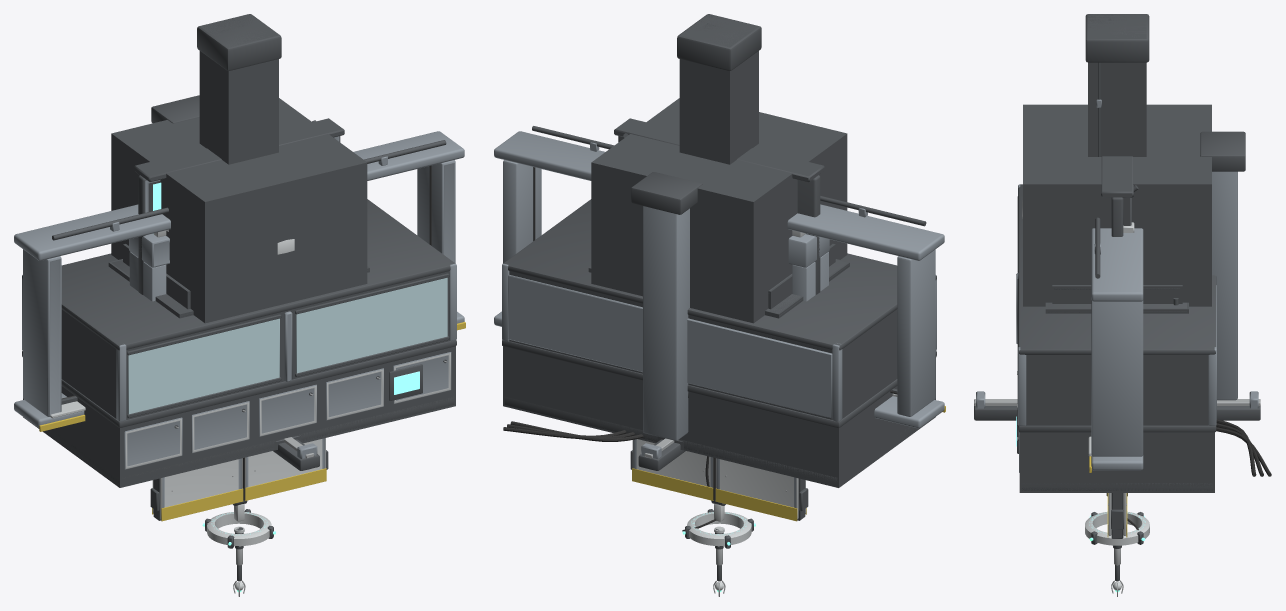
The model's file is kit.glb.
3 renders of one model, left to right at view 1: azimuth 30°, elevation 25°; view 2: azimuth 150°, elevation 25°; view 3: azimuth 270°, elevation 25°, orthographic.
Visible parts, largest first — view 1: robot_test_cell, COL_cell, window_frame, COL_robot_test_cell, COL_pillar, door_leaf, pillar, display_hanging, door_frame, scanner_head, cell_frame, scanner_rail (+2 smaller); view 2: robot_test_cell, COL_cell, COL_robot_test_cell, window_frame, cell_frame, COL_pillar, door_leaf, display_hanging, pillar, door_frame, scanner_head, scanner_rail (+1 smaller); view 3: COL_cell, COL_robot_test_cell, window_frame, robot_test_cell, cell_frame, COL_pillar, pillar, display_hanging, scanner_rail, COL_equip_cabinet_D, scanner_head, door_leaf (+2 smaller).
Part boxes in pixels (<box>): robot_test_cell: <box>22,199,456,485</box>; COL_cell: <box>111,98,367,323</box>; window_frame: <box>14,131,465,431</box>; COL_robot_test_cell: <box>23,271,455,487</box>; COL_pillar: <box>199,14,278,164</box>; door_leaf: <box>150,438,328,521</box>; pillar: <box>197,14,281,70</box>; display_hanging: <box>134,118,344,294</box>; door_frame: <box>129,229,169,301</box>; scanner_head: <box>202,500,275,548</box>; cell_frame: <box>151,95,300,450</box>; scanner_rail: <box>273,437,319,470</box>; robot_test_cell: <box>502,199,936,484</box>; COL_cell: <box>591,98,847,323</box>; COL_robot_test_cell: <box>503,271,935,487</box>; window_frame: <box>494,126,945,428</box>; cell_frame: <box>503,172,702,450</box>; COL_pillar: <box>679,14,758,164</box>; door_leaf: <box>630,439,808,521</box>; display_hanging: <box>614,118,824,294</box>; pillar: <box>677,14,761,70</box>; door_frame: <box>788,230,829,301</box>; scanner_head: <box>682,500,755,548</box>; scanner_rail: <box>638,438,685,470</box>; COL_cell: <box>1023,104,1211,306</box>; COL_robot_test_cell: <box>1019,355,1214,492</box>; window_frame: <box>1088,217,1143,472</box>; robot_test_cell: <box>1016,184,1216,490</box>; cell_frame: <box>1022,131,1271,476</box>; COL_pillar: <box>1088,14,1146,156</box>; pillar: <box>1085,14,1149,156</box>; display_hanging: <box>1101,156,1138,236</box>; scanner_rail: <box>974,391,1260,420</box>; COL_equip_cabinet_D: <box>1052,285,1182,303</box>; scanner_head: <box>1085,511,1149,545</box>; door_leaf: <box>1106,493,1127,538</box>.
Size of the model in its own units: 7.62 by 9.62 by 4.57.
